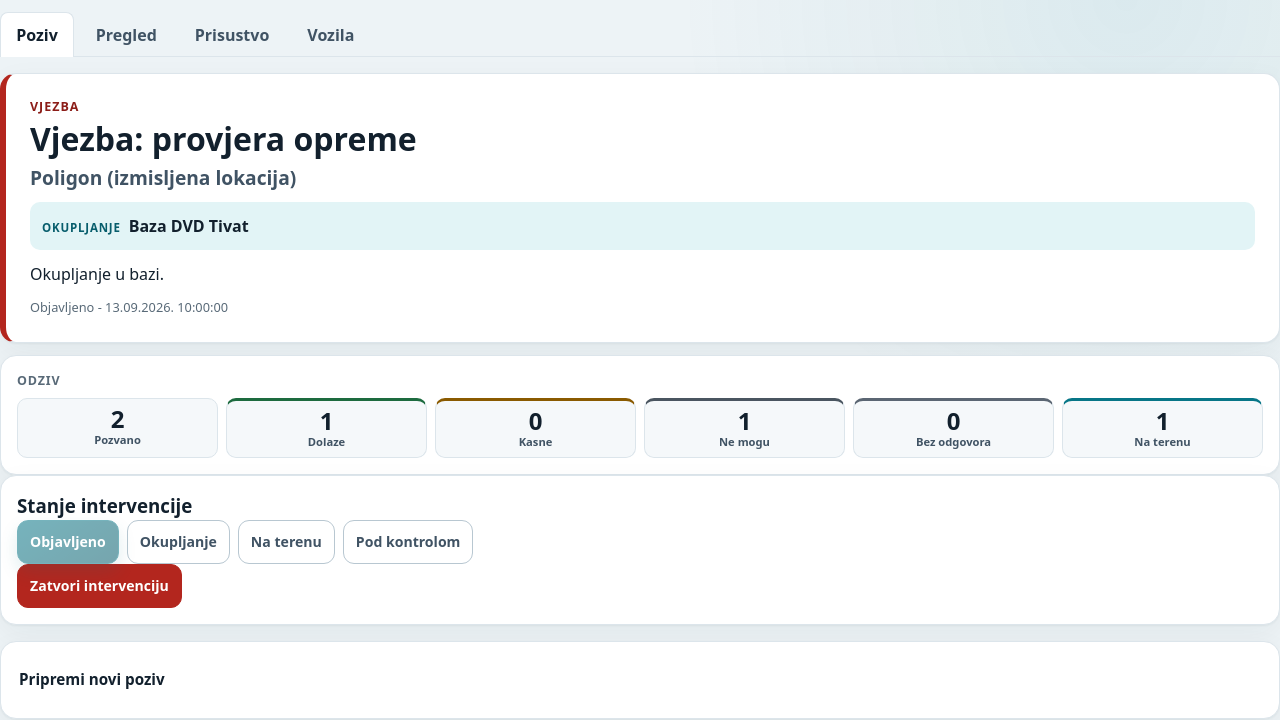
Test: the commander console renders on real data › gives every fact its own column instead of one status
Click the tab "Pregled".
click(126, 34)  # box [80,12,173,56]
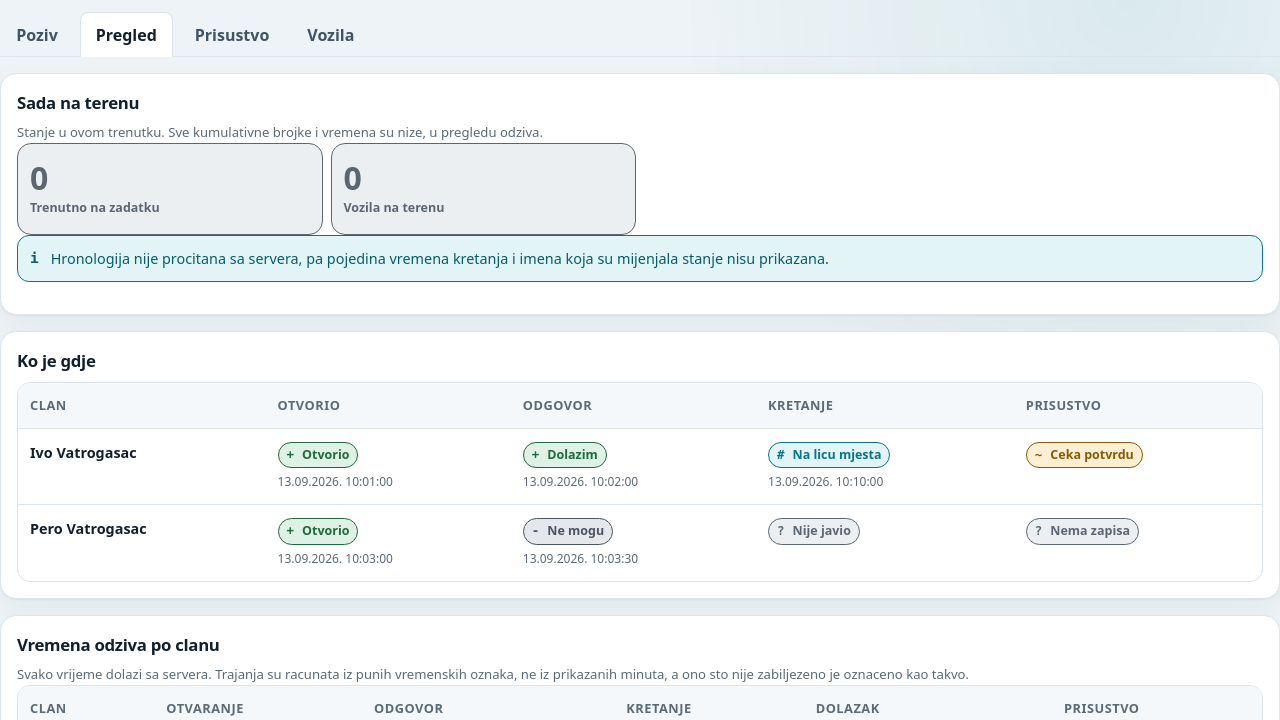
Expected: the table with test id "overview-table" is shown, [18,383,1262,581]
Expected: the text with class "response-time" reads "13.09.2026. 10:01:00", [278,473,393,490]
Expected: the text with class "response-time" reads "13.09.2026. 10:02:00", [523,473,638,490]
